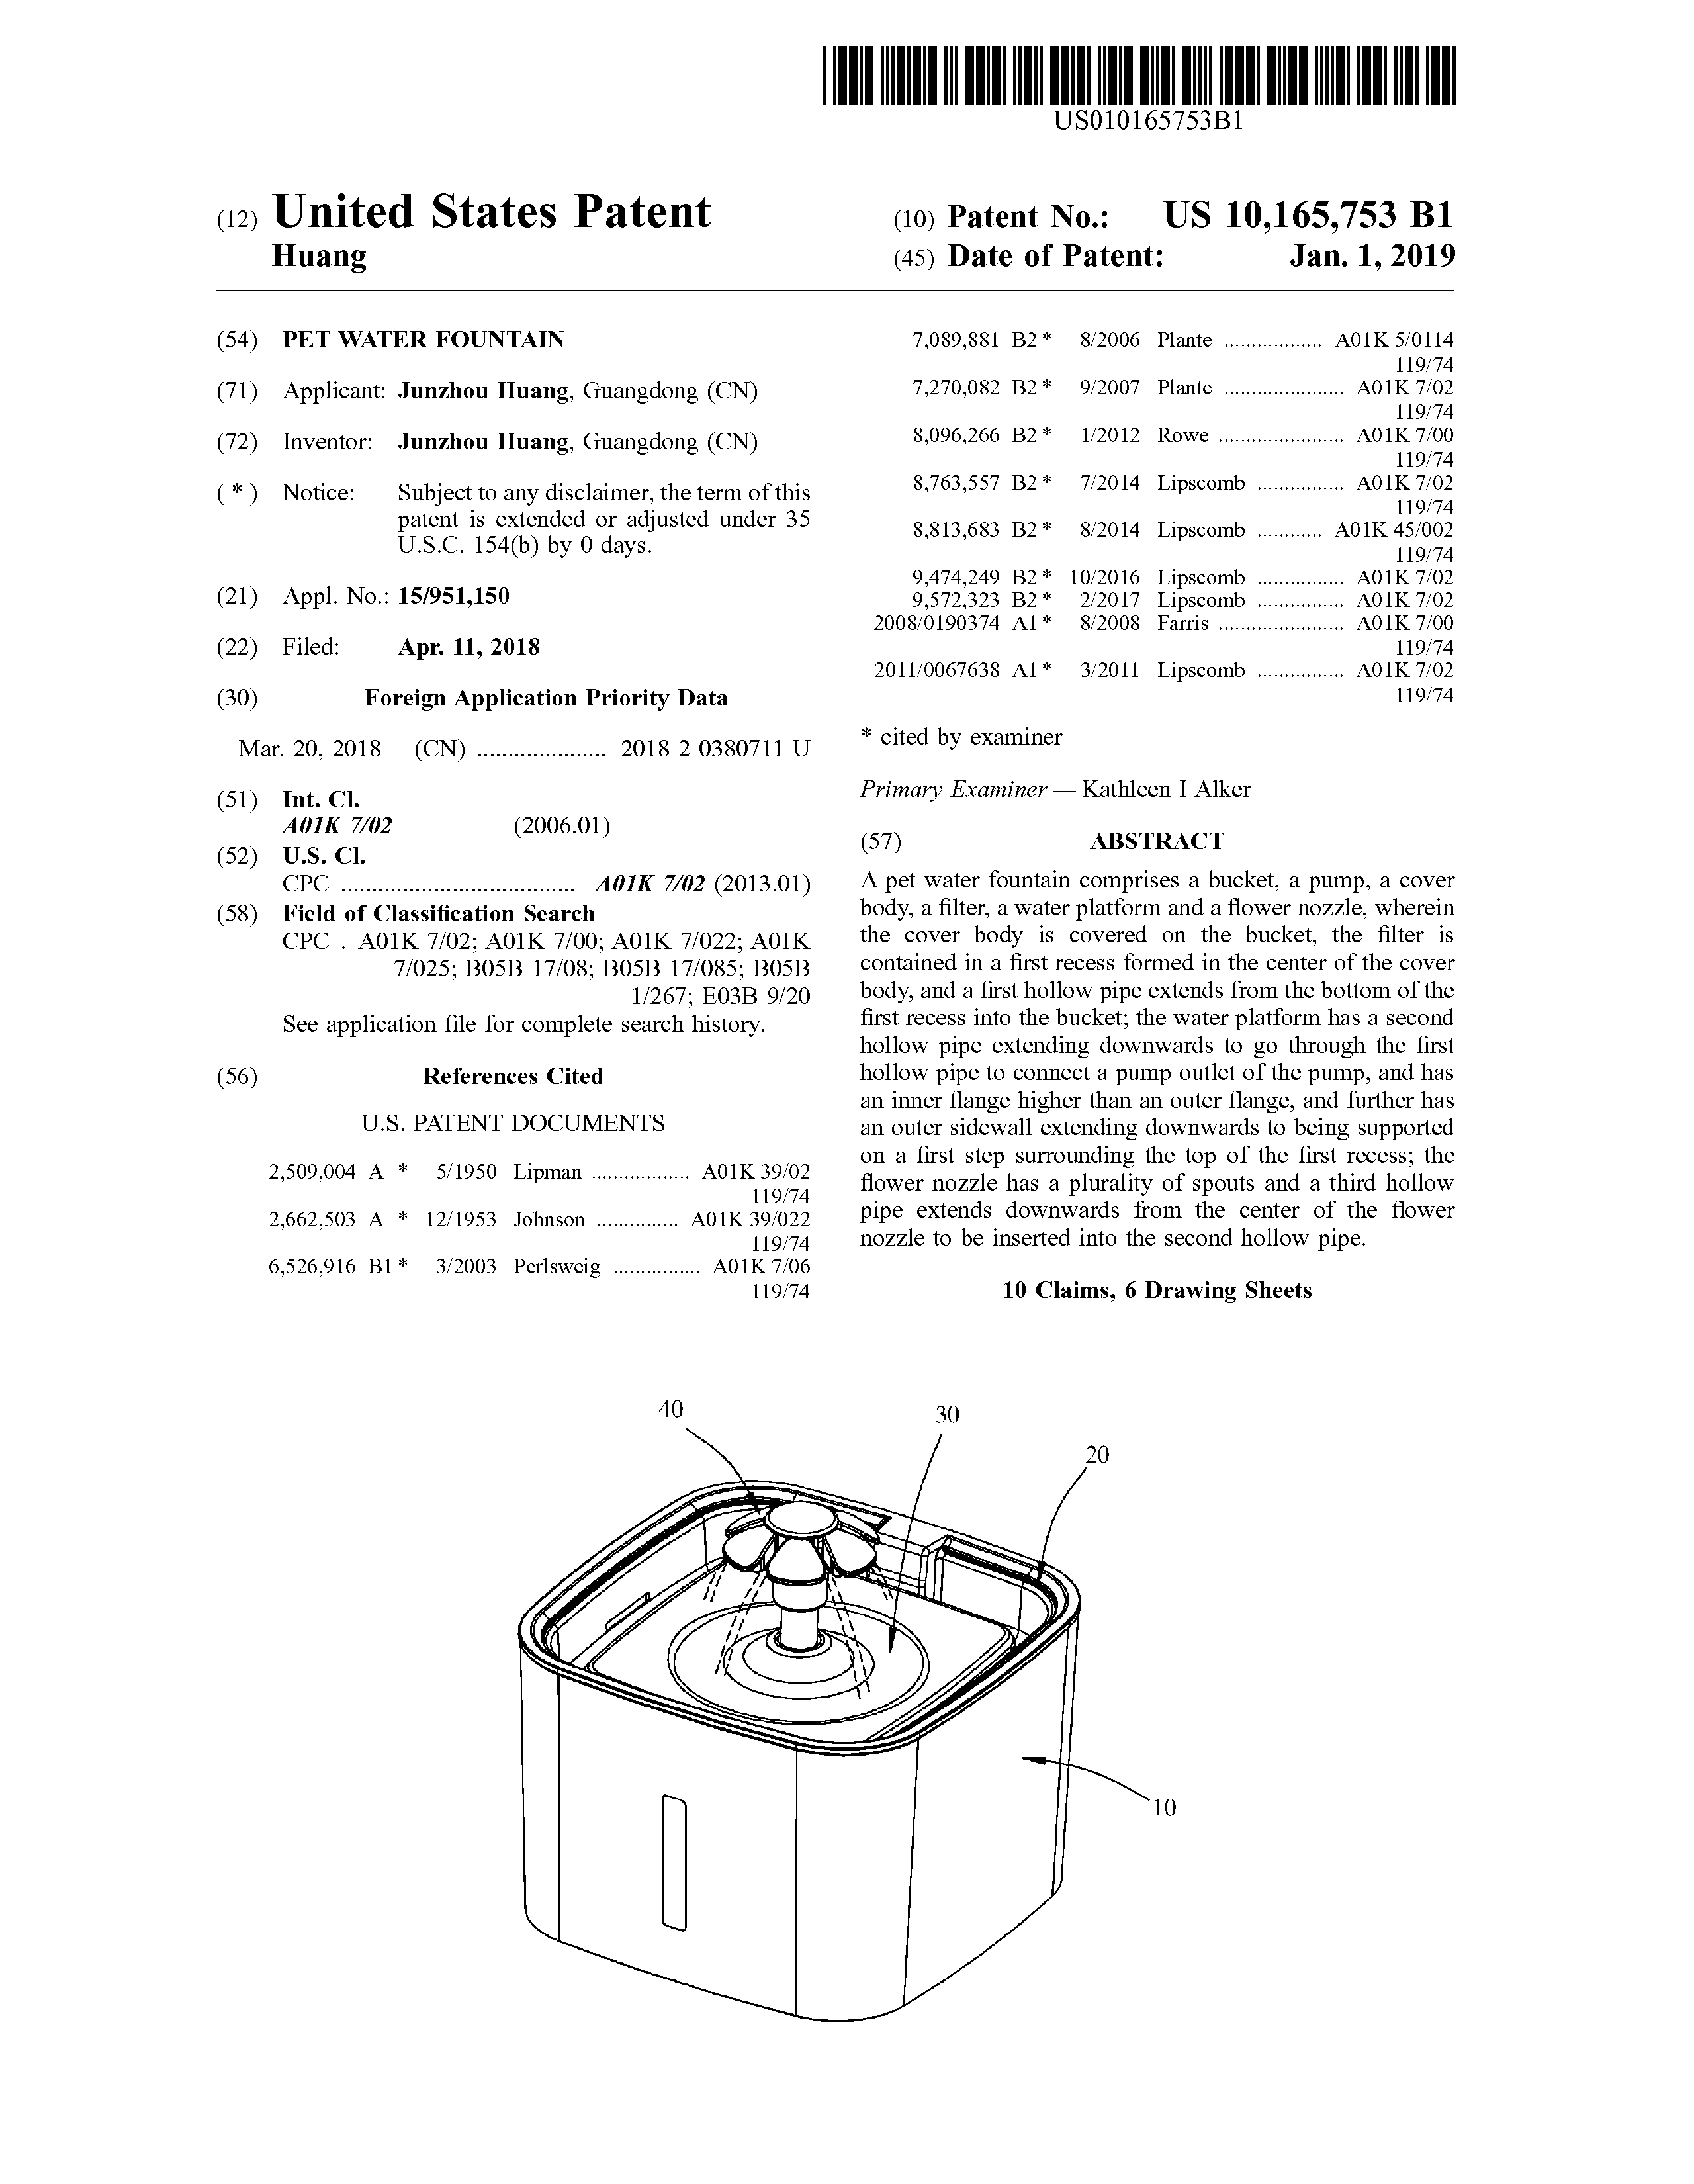patent image: (454, 1332, 1234, 2043)
